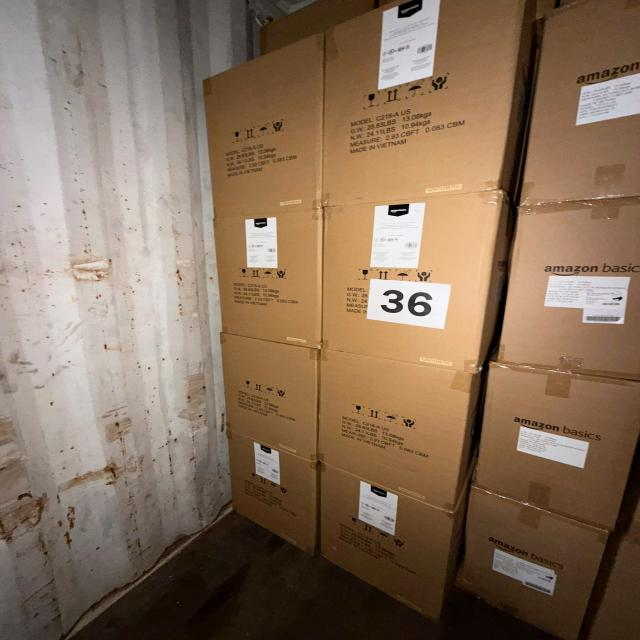Carton: (314, 3, 518, 205), (328, 199, 498, 370), (483, 360, 640, 526), (501, 198, 639, 378), (323, 349, 479, 501), (528, 5, 639, 205), (322, 466, 459, 628), (467, 486, 606, 640), (208, 47, 327, 214), (212, 214, 326, 349), (224, 334, 320, 464), (228, 428, 322, 554)
